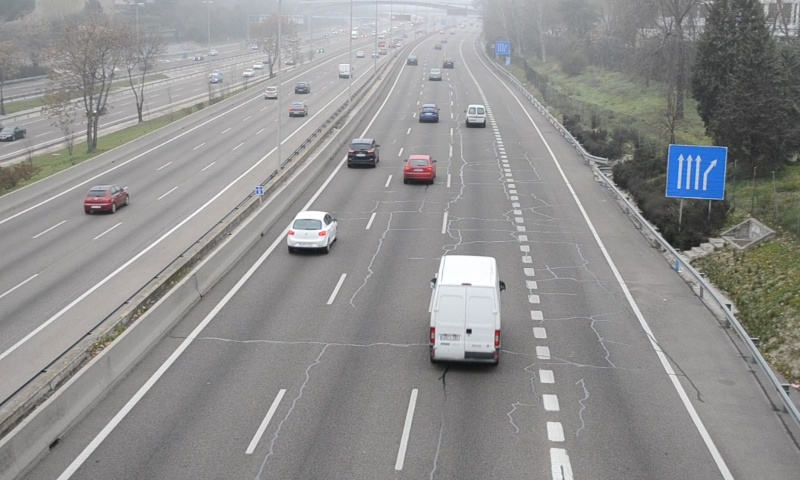car: (287, 210, 336, 249), (346, 138, 379, 167), (404, 154, 435, 182), (418, 104, 439, 122)
van: (430, 256, 501, 368), (465, 104, 487, 128)
